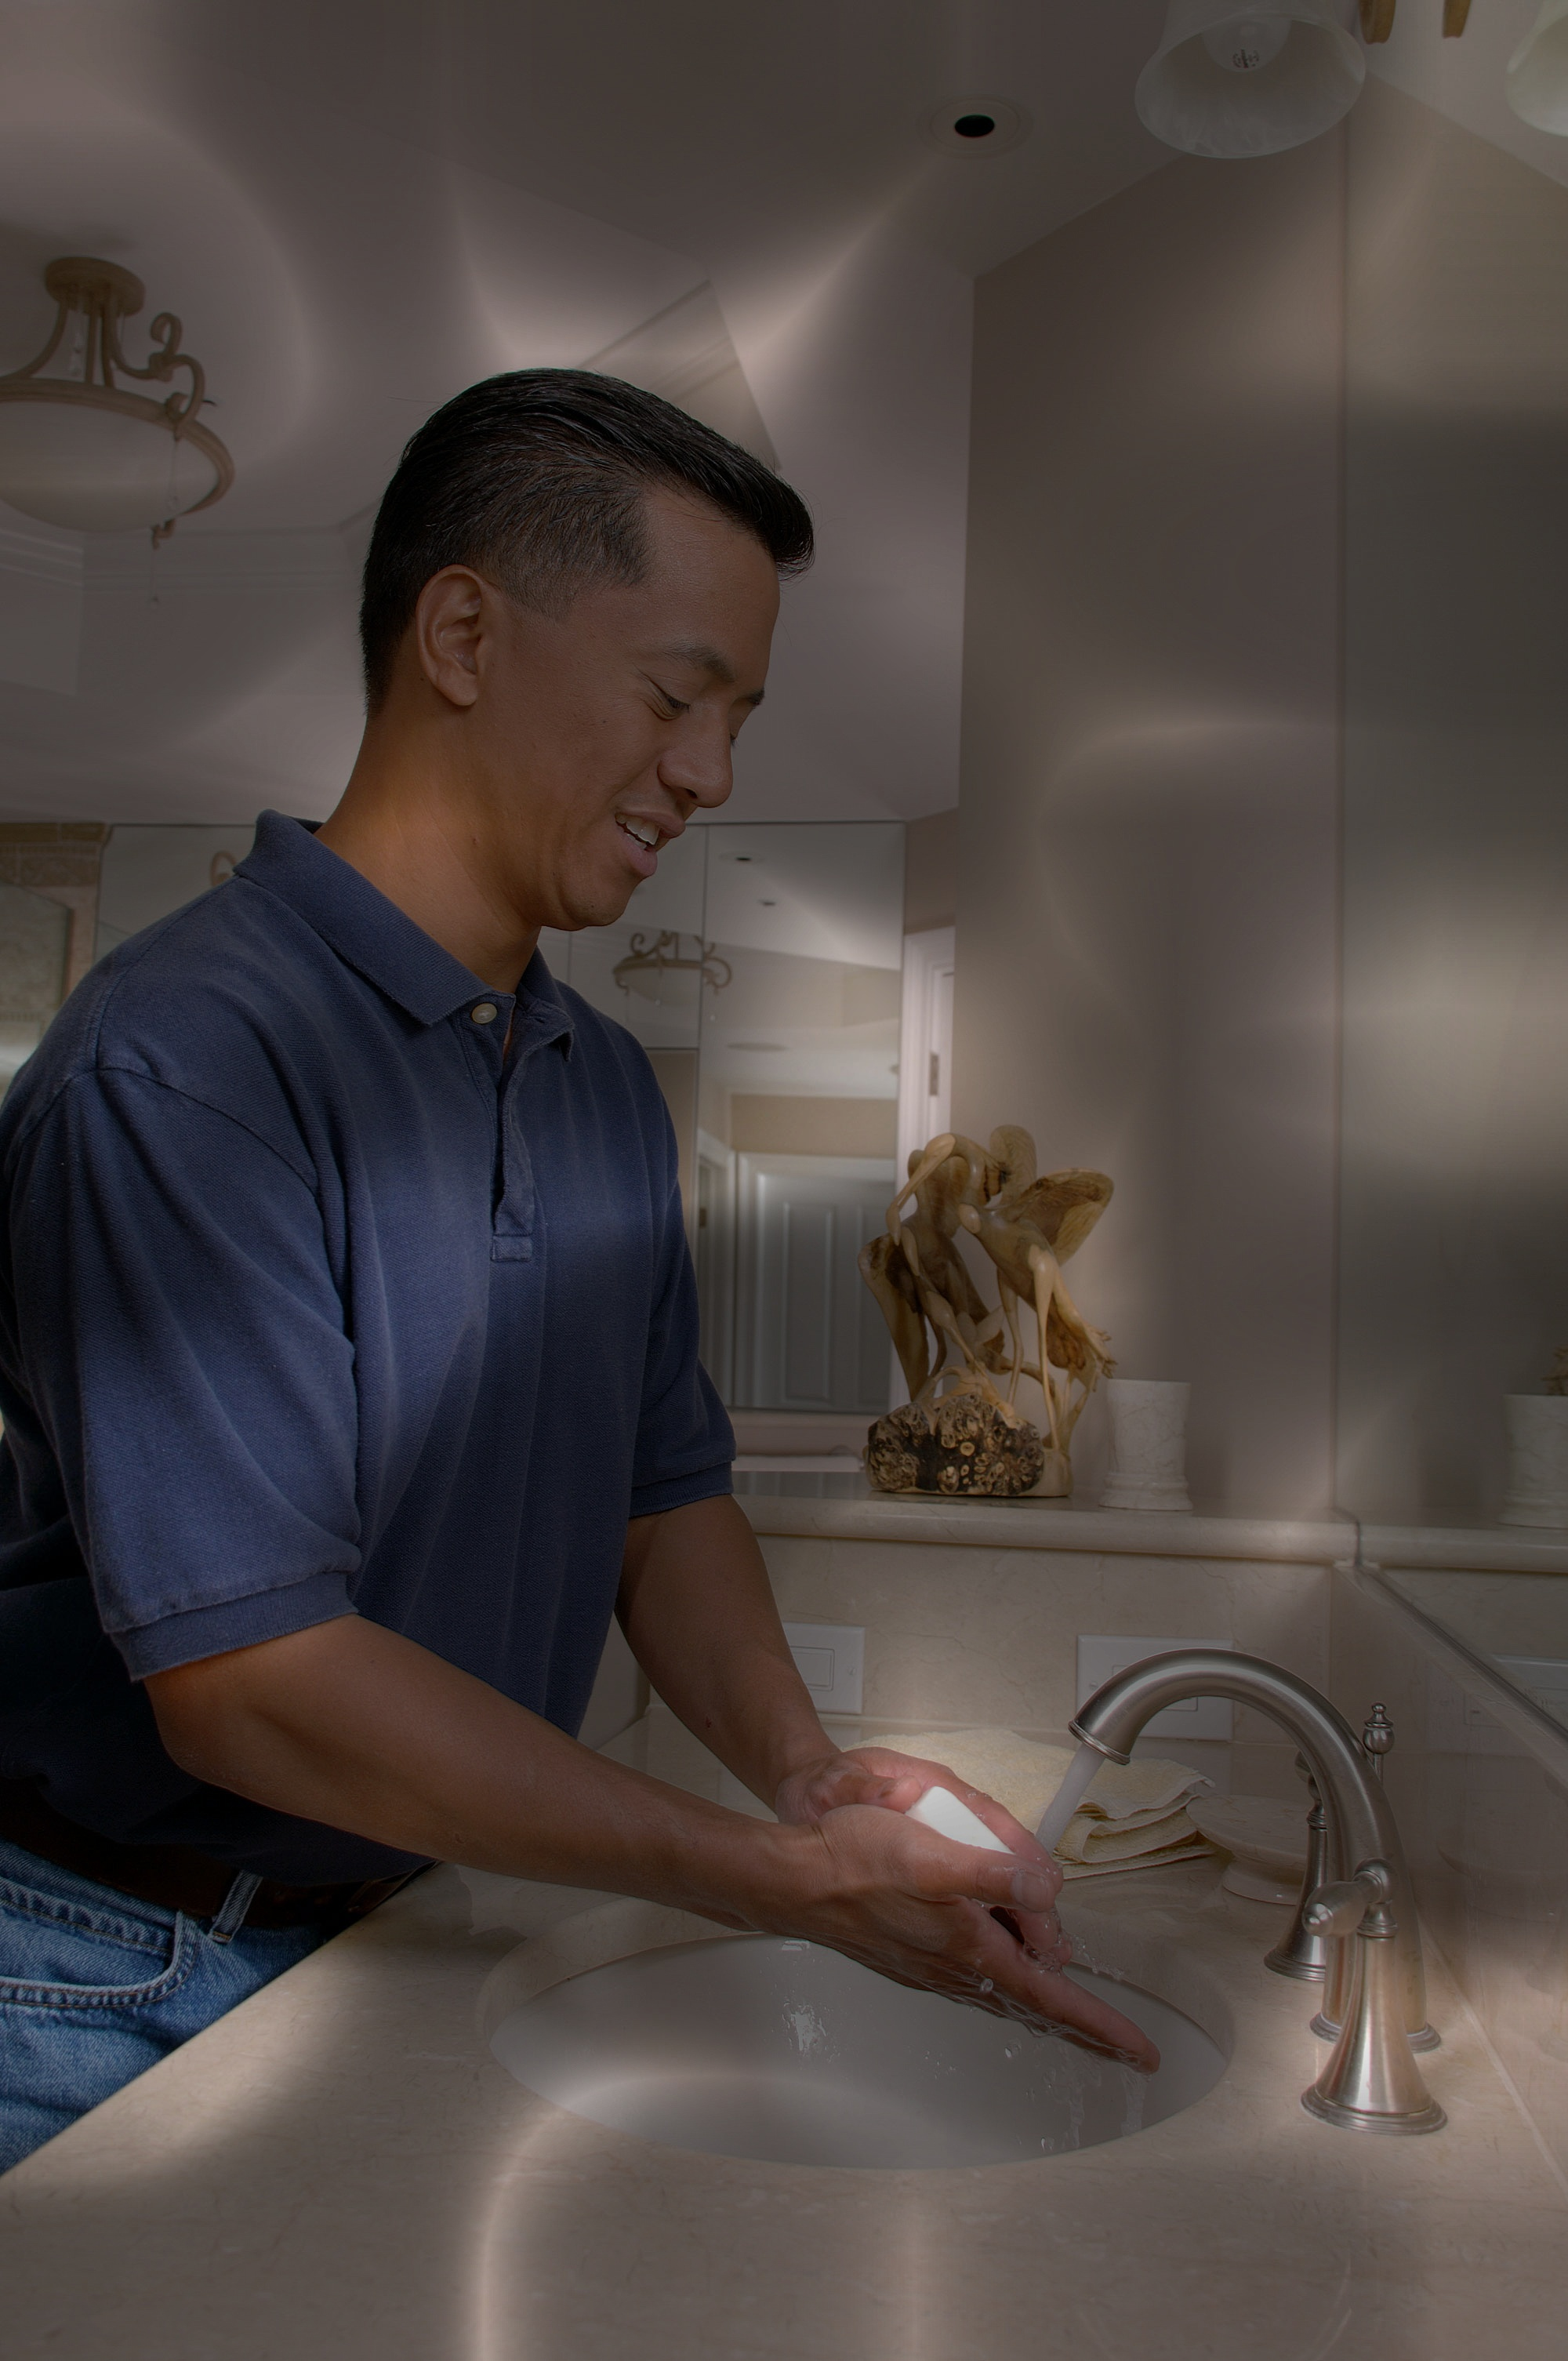washing hand: (796, 1489, 1454, 2126)
